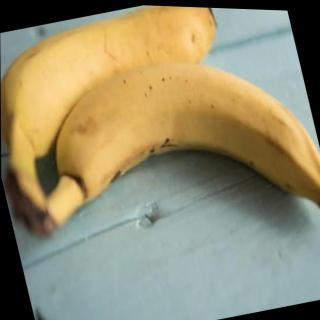banana: (37, 29, 320, 269), (0, 0, 240, 172)
